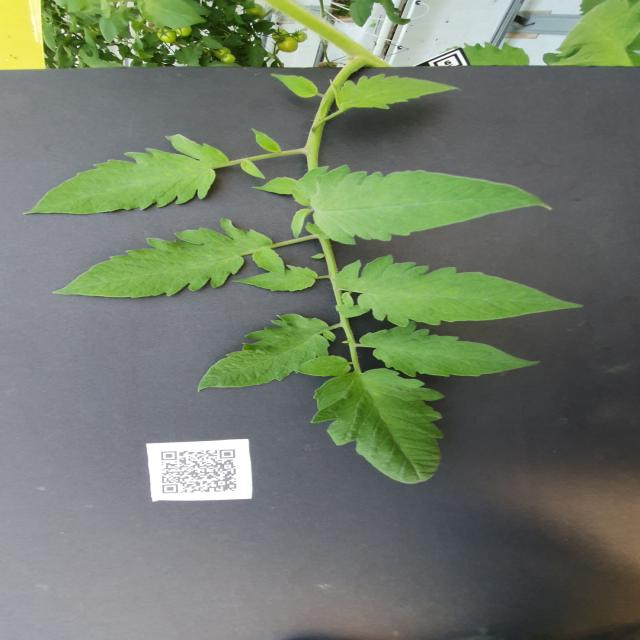Healthy Leaf: (309, 154, 552, 244), (52, 217, 285, 299), (333, 254, 585, 328), (24, 126, 229, 215), (309, 368, 445, 485), (358, 321, 544, 378), (198, 313, 330, 392), (328, 70, 462, 113), (228, 266, 318, 294), (296, 356, 352, 378)
